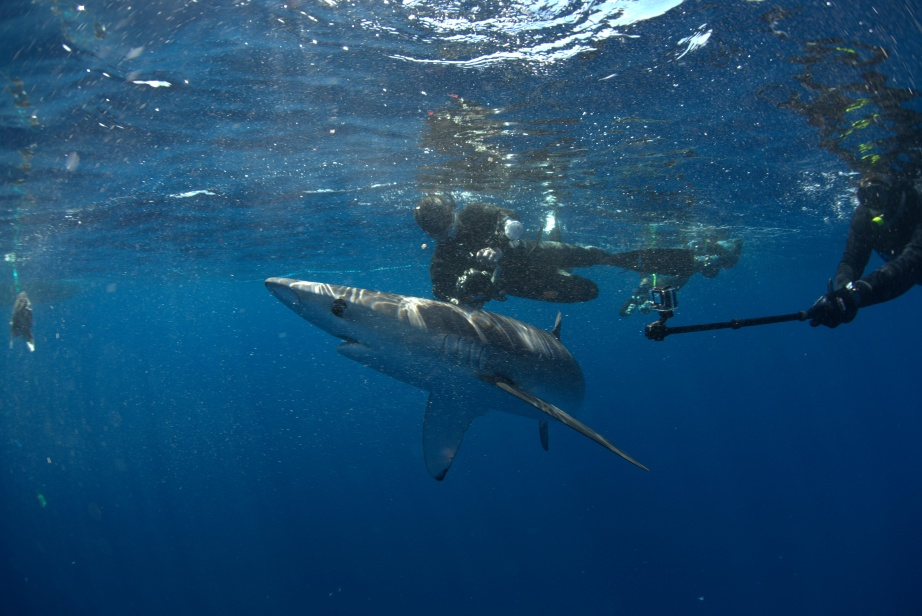Azul: (230, 257, 660, 492)
